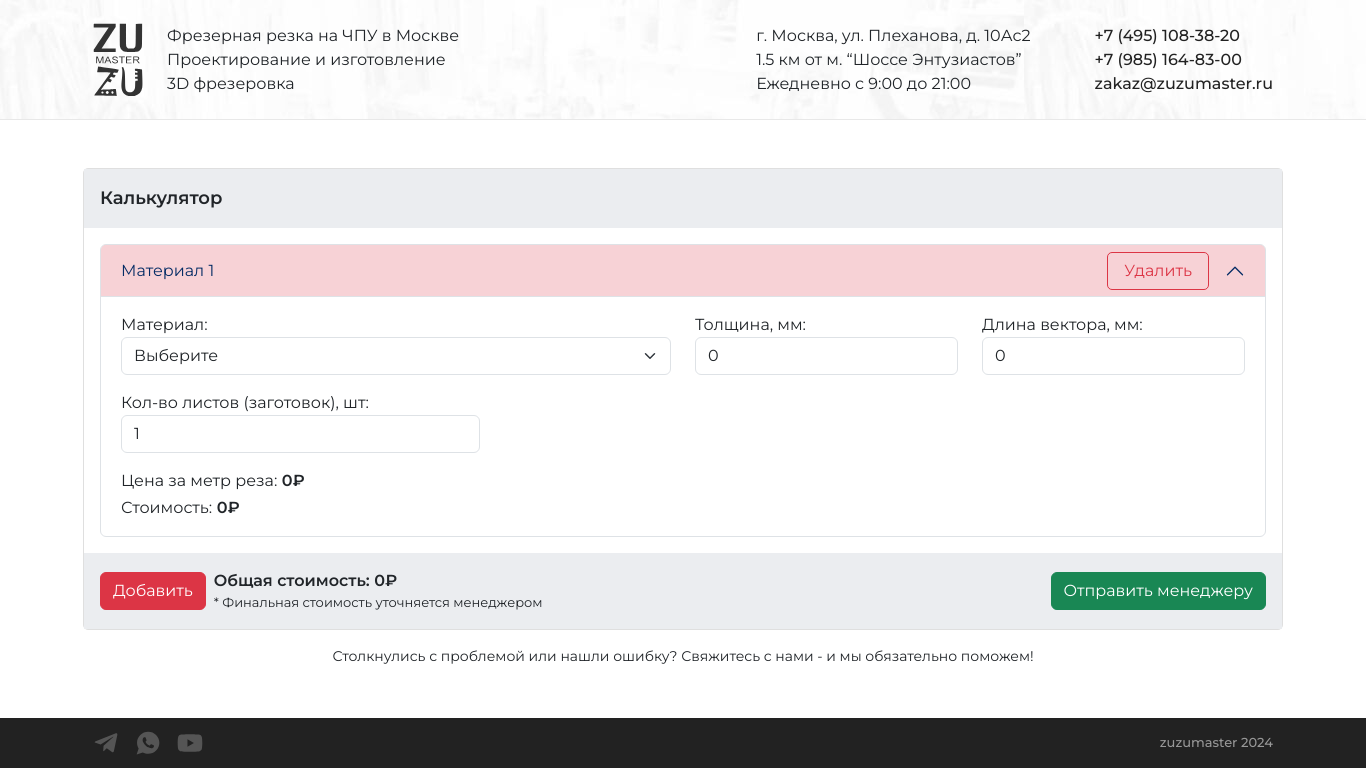
data calculation › calculate meter price
The image size is (1366, 768).
Expected: the text "Калькулятор" is shown, [84,169,1282,228]
Step 1. Select "ДСП" in the dropdown → [396, 356], box [121,337,671,375]
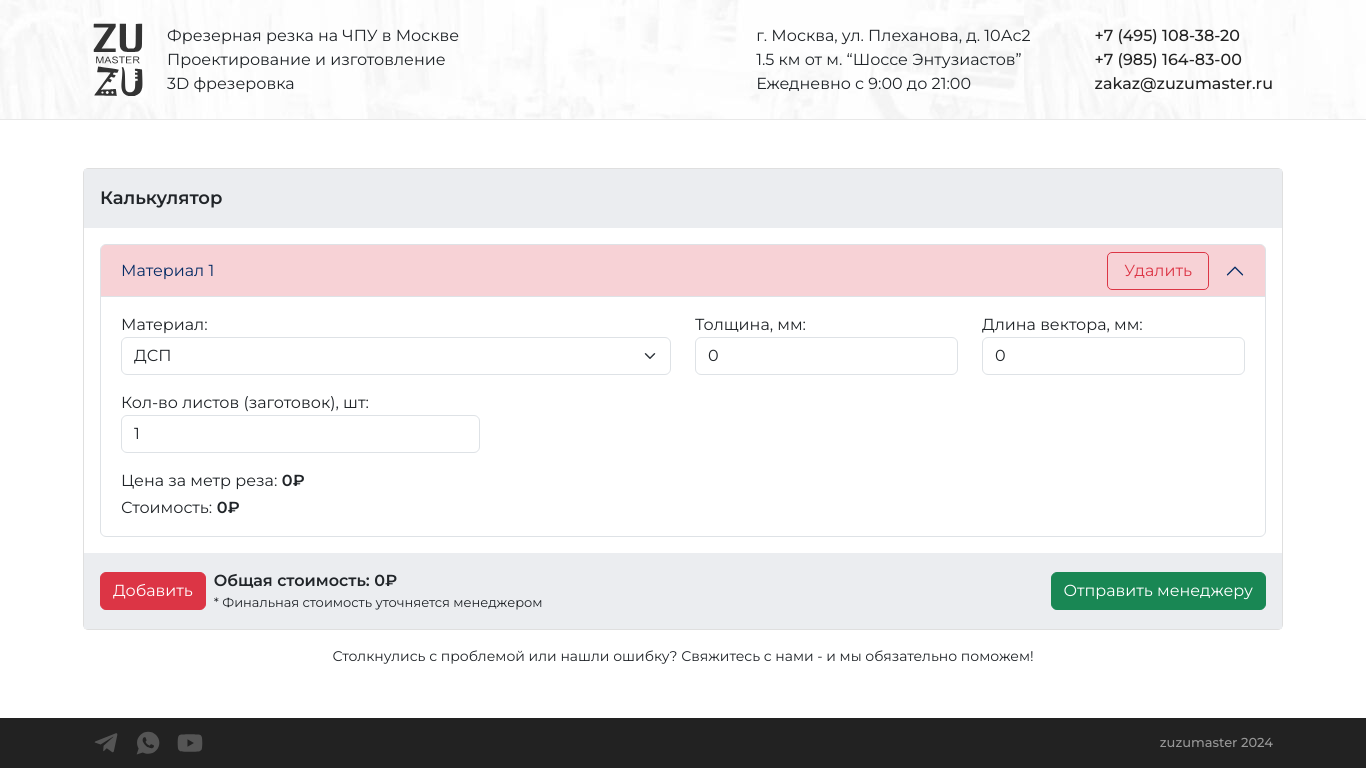
Step 2. Replace the text in the number field with class "thickness-input" with "1" → [826, 356], box [695,337,958,375]
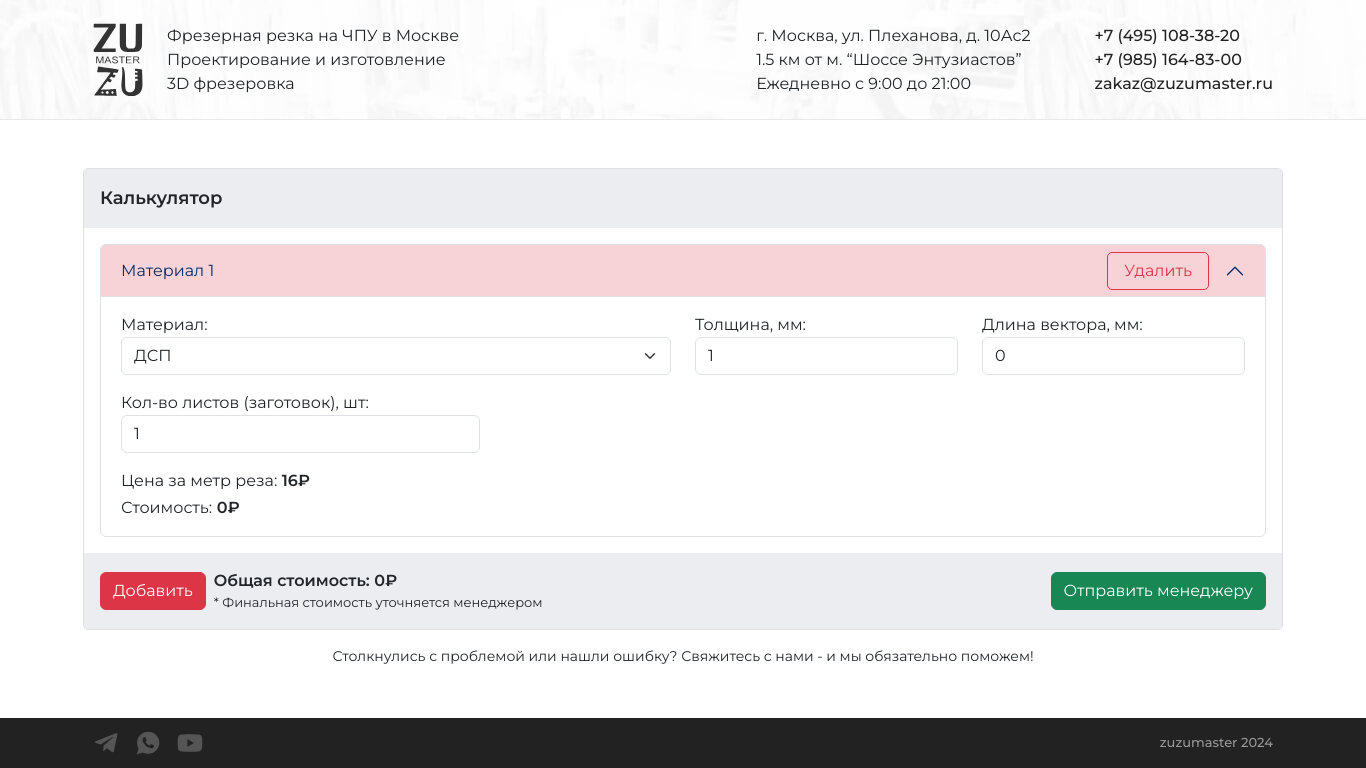
Result: the text with class "meter-price" reads "16₽" at [277,471,310,490]
